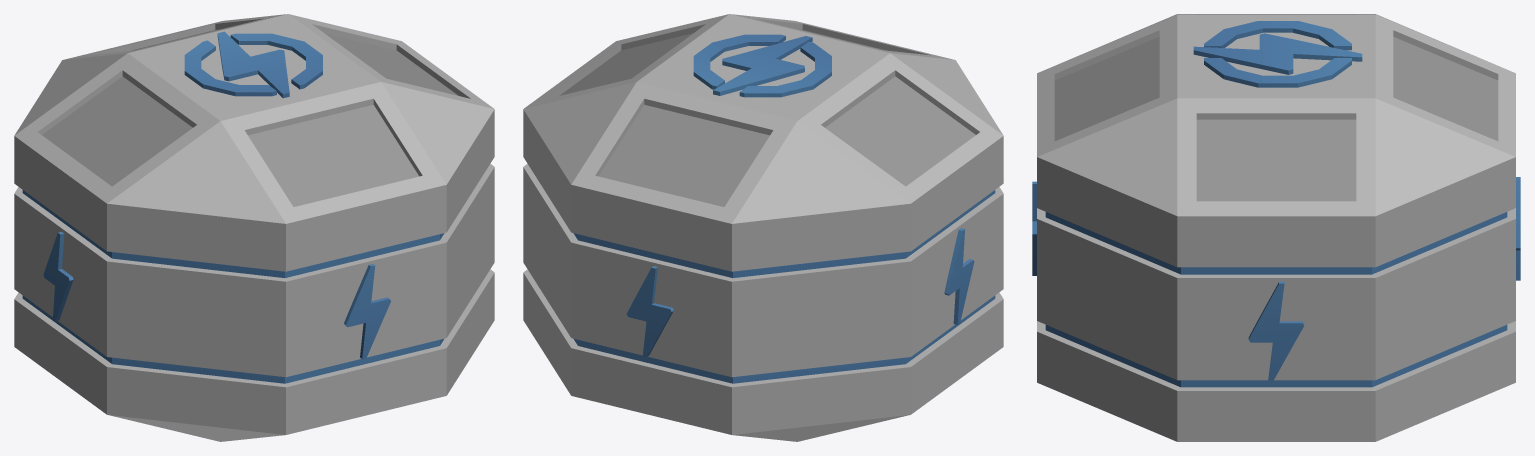
The model's file is EnergyPack_02.fbx.
3 views of the same model, side by side, from view 1: azimuth 30°, elevation 25°; view 2: azimuth 150°, elevation 25°; view 3: azimuth 270°, elevation 25° (orthographic). The views are drawn at different scales.
Parts seen in each view (by area): view 1: EnergyPack_02; view 2: EnergyPack_02; view 3: EnergyPack_02.
Boxes of the visible parts, x1=… form: EnergyPack_02: x1=14, y1=14, x2=494, y2=441; EnergyPack_02: x1=523, y1=14, x2=1003, y2=441; EnergyPack_02: x1=1032, y1=14, x2=1520, y2=441.
Size of the model in its own units: 0.4571 by 0.3587 by 0.4571.
